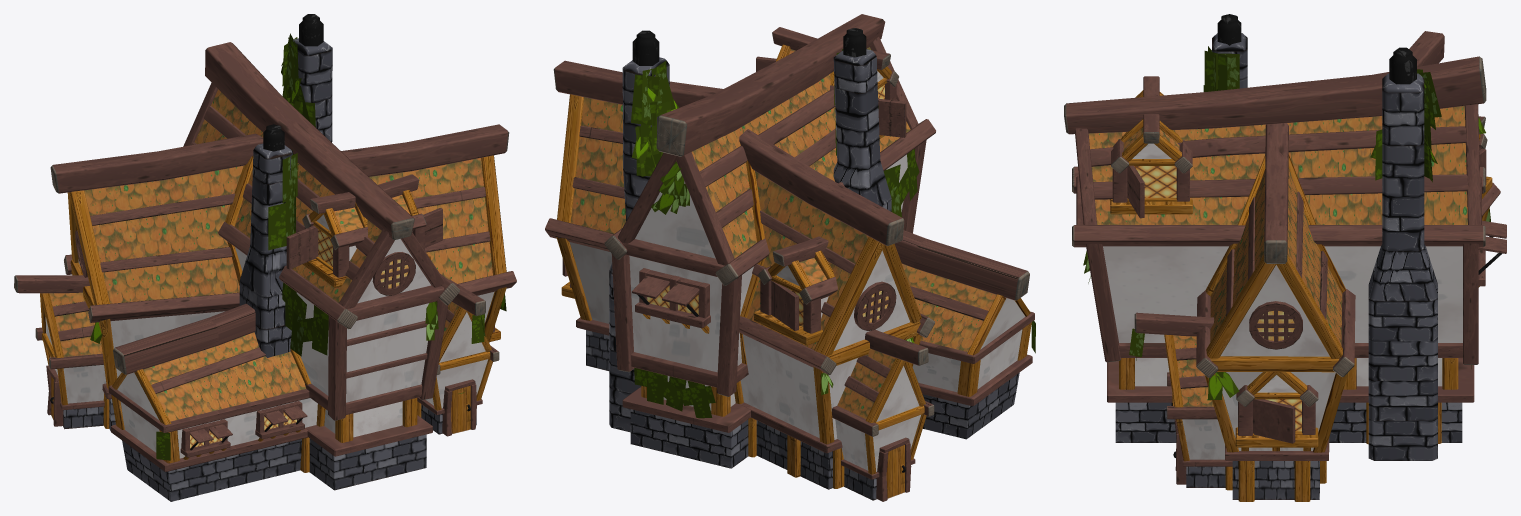
File: test maison.fbx
The picture shows the model from 3 angles, left to right: view 1: azimuth 30°, elevation 25°; view 2: azimuth 150°, elevation 25°; view 3: azimuth 270°, elevation 25°; orthographic projection. The views are drawn at different scales.
Visible parts, largest first — view 1: polySurface1; view 2: polySurface1; view 3: polySurface1.
Part boxes in pixels (x1,y1,x2,y2): polySurface1: [14, 14, 516, 501]; polySurface1: [545, 14, 1035, 501]; polySurface1: [1064, 14, 1506, 501].
Bounding box in the file's own units: 1005 × 823 × 826.
